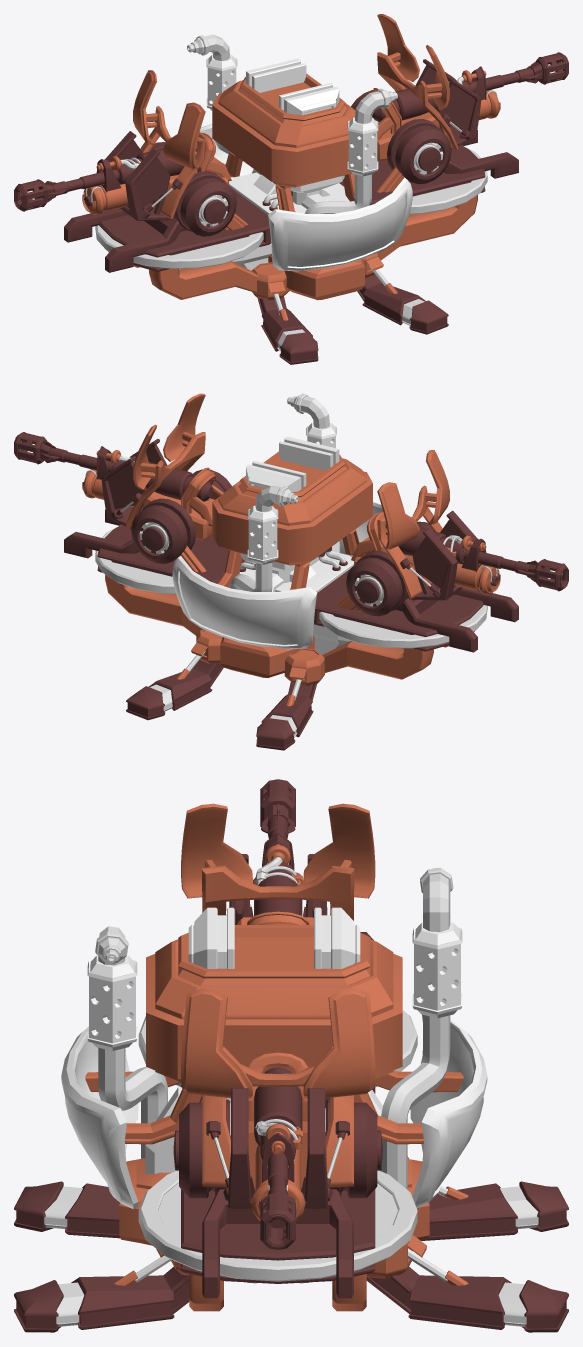
Rendered from side_gun_test_export_v001.fbx.
The picture shows the model from 3 angles, top to bottom: view 1: azimuth 30°, elevation 25°; view 2: azimuth 150°, elevation 25°; view 3: azimuth 270°, elevation 25°; orthographic projection. The views are drawn at different scales.
Parts seen in each view (by area): view 1: pCube218, pCube225, polySurface482, pCube233, polySurface560, polySurface537, polySurface543, pCube226, polySurface583, polySurface581, polySurface766, pCube230 (+5 smaller); view 2: pCube218, pCube225, polySurface482, pCube233, polySurface560, polySurface554, polySurface543, pCube226, polySurface583, polySurface581, polySurface597, polySurface533 (+4 smaller); view 3: pCube225, pCube218, polySurface560, polySurface482, pCube233, polySurface583, polySurface543, pCube226, polySurface597, polySurface766, polySurface533, polySurface581 (+3 smaller).
Boxes of the visible parts, <box> form: pCube218: <box>14,52,568,272</box>; pCube225: <box>82,14,500,230</box>; polySurface482: <box>212,73,355,187</box>; pCube233: <box>199,124,412,271</box>; polySurface560: <box>251,253,448,364</box>; polySurface537: <box>149,195,477,299</box>; polySurface543: <box>95,145,487,268</box>; pCube226: <box>246,58,339,115</box>; polySurface583: <box>187,34,397,213</box>; polySurface581: <box>268,254,364,300</box>; polySurface766: <box>347,117,378,176</box>; pCube230: <box>229,172,349,214</box>; pCube218: <box>14,432,568,652</box>; pCube225: <box>82,393,500,609</box>; polySurface482: <box>212,451,372,565</box>; pCube233: <box>172,502,383,649</box>; polySurface560: <box>126,629,324,750</box>; polySurface554: <box>105,574,433,679</box>; polySurface543: <box>95,525,487,648</box>; pCube226: <box>246,436,339,492</box>; polySurface583: <box>229,393,352,591</box>; polySurface581: <box>220,635,314,677</box>; polySurface597: <box>247,505,278,564</box>; polySurface533: <box>217,529,369,589</box>; pCube225: <box>181,803,375,1220</box>; pCube218: <box>173,779,382,1298</box>; polySurface560: <box>14,1156,568,1332</box>; polySurface482: <box>146,925,402,1081</box>; pCube233: <box>61,1014,487,1208</box>; polySurface583: <box>95,867,453,1189</box>; polySurface543: <box>138,1010,417,1281</box>; pCube226: <box>188,907,360,968</box>; polySurface597: <box>412,922,462,1018</box>; polySurface766: <box>87,955,137,1050</box>; polySurface533: <box>85,1070,463,1144</box>; polySurface581: <box>119,1158,429,1245</box>.
Bounding box in the file's own units: 130 × 52.21 × 70.28.
